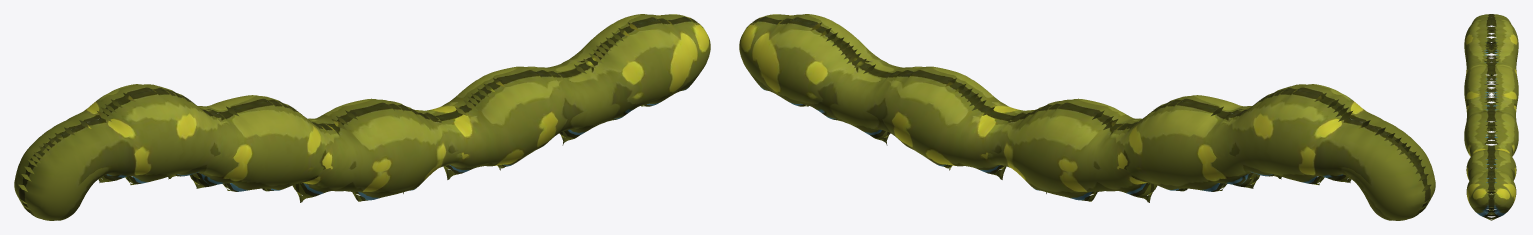
Rendered from olive_thorn_root.glb.
3 renders of one model, left to right at view 1: azimuth 30°, elevation 25°; view 2: azimuth 150°, elevation 25°; view 3: azimuth 270°, elevation 25°, orthographic. The views are drawn at different scales.
Visible parts, largest first — view 1: olive_thorn_root; view 2: olive_thorn_root; view 3: olive_thorn_root.
Part boxes in pixels (left/top/right/bottom): olive_thorn_root: left=14, top=14, right=710, bottom=220; olive_thorn_root: left=739, top=14, right=1435, bottom=220; olive_thorn_root: left=1464, top=14, right=1518, bottom=220.
Size of the model in its own units: 0.989 by 0.2297 by 0.1346.
1 material, 1 textured.
